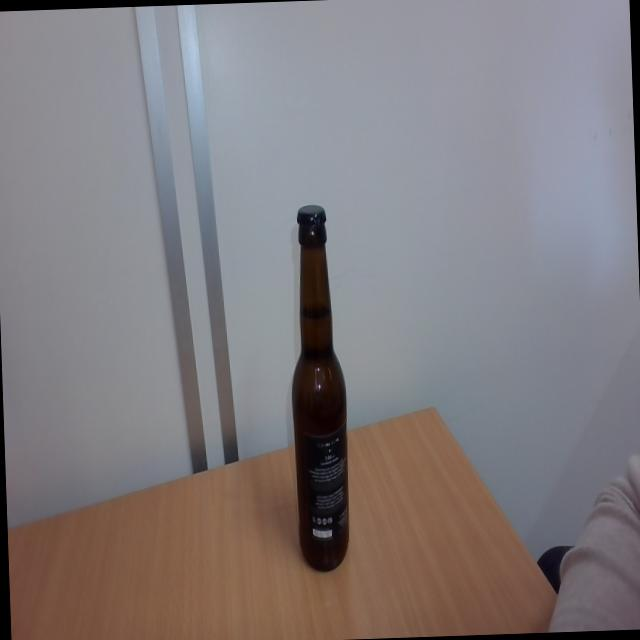Bottle: (288, 233, 353, 576)
Cap: (296, 202, 330, 230)
Label: (295, 426, 352, 545)
